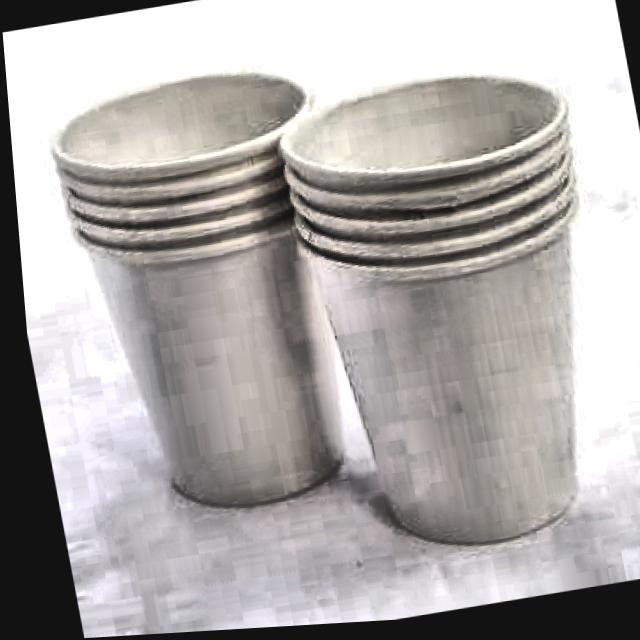Cup: (248, 45, 640, 588), (25, 52, 376, 561)
